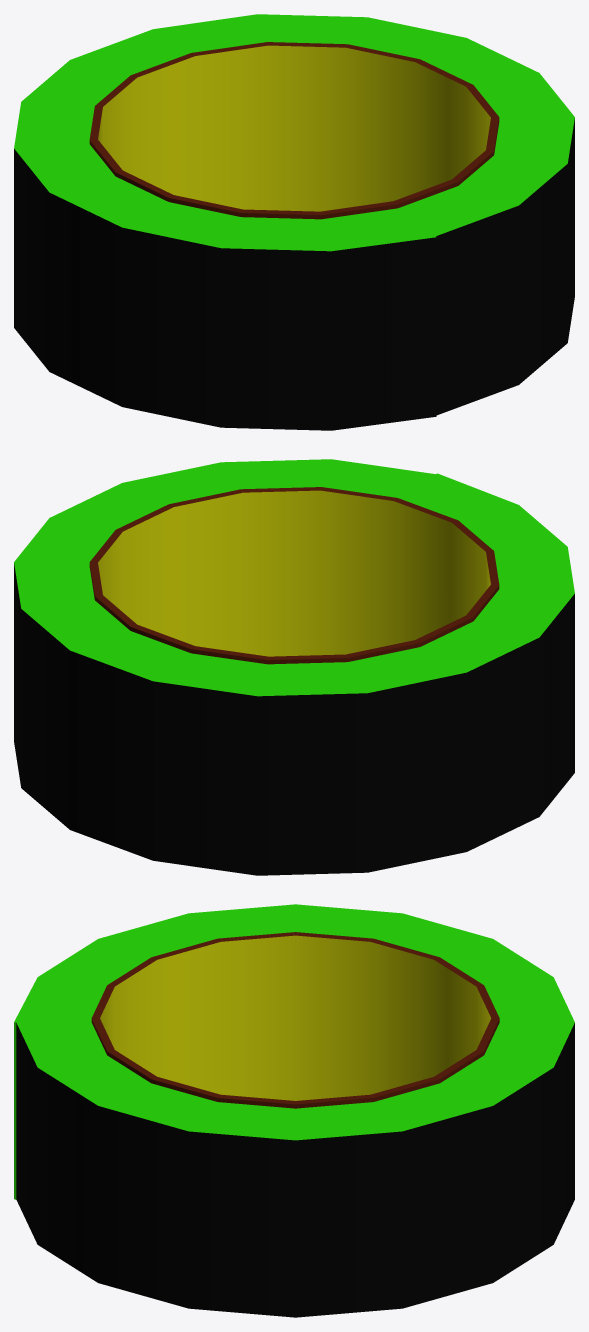
Rendered from Isolasi Hitam.fbx.
3 renders of one model, top to bottom at view 1: azimuth 30°, elevation 25°; view 2: azimuth 150°, elevation 25°; view 3: azimuth 270°, elevation 25°, orthographic.
Parts seen in each view (by area): view 1: Isolasi Hitam; view 2: Isolasi Hitam; view 3: Isolasi Hitam.
Part boxes in pixels (x1,y1,x2,y2): Isolasi Hitam: (14, 14, 574, 430); Isolasi Hitam: (14, 459, 574, 875); Isolasi Hitam: (14, 904, 574, 1317).
Bounding box in the file's own units: 10 × 3.65 × 10.04.
